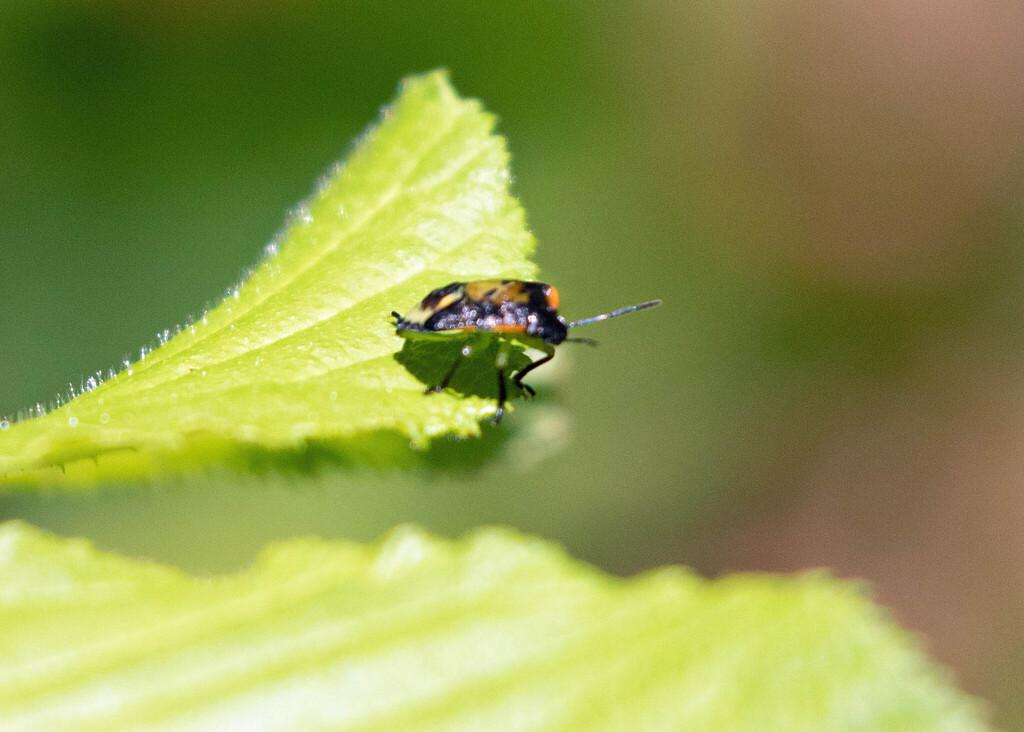stink_bugs: (360, 214, 691, 454)
